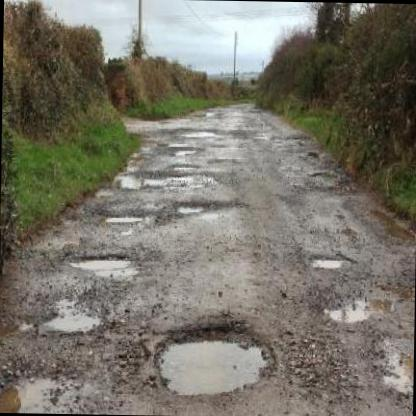pothole: (152, 321, 276, 398), (317, 289, 392, 322), (37, 298, 106, 333), (376, 340, 413, 396), (168, 194, 244, 215), (67, 252, 132, 270), (308, 250, 355, 267), (165, 144, 200, 156), (115, 172, 140, 188)
